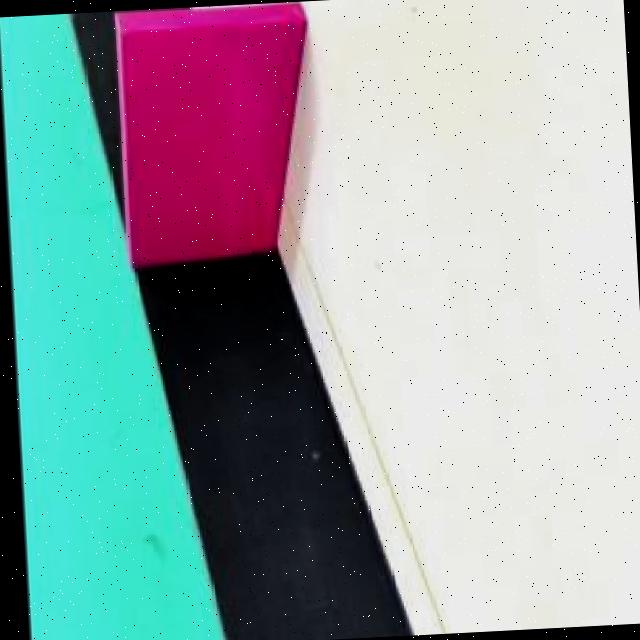xparking: (124, 16, 325, 252)
